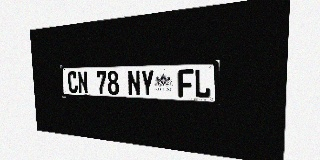7: (96, 71, 107, 94)
8: (107, 70, 119, 95)
C: (67, 71, 78, 93)
F: (178, 69, 193, 98)
L: (194, 69, 211, 98)
N: (127, 70, 141, 96), (77, 71, 88, 94)
Y: (140, 70, 154, 96)
